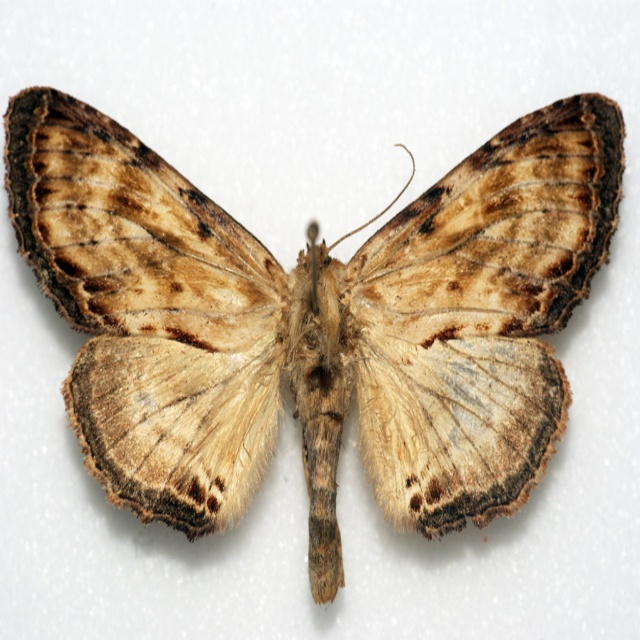Butterfly: (29, 81, 640, 607)
